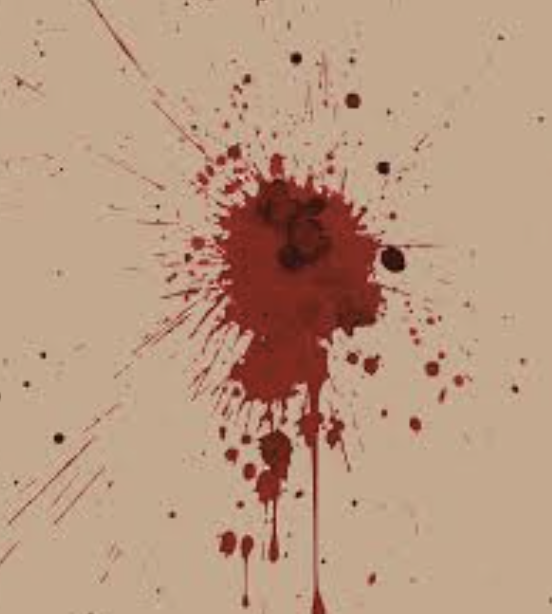blood_12.png: (108, 45, 497, 614)
